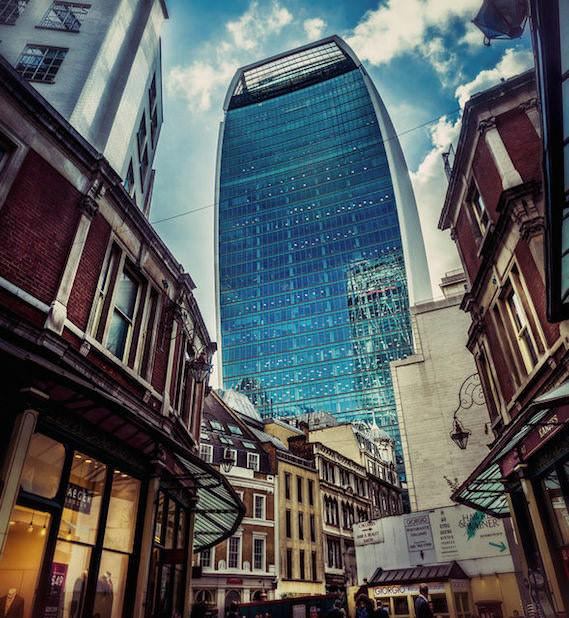Walkie talkie: (208, 30, 437, 390)
